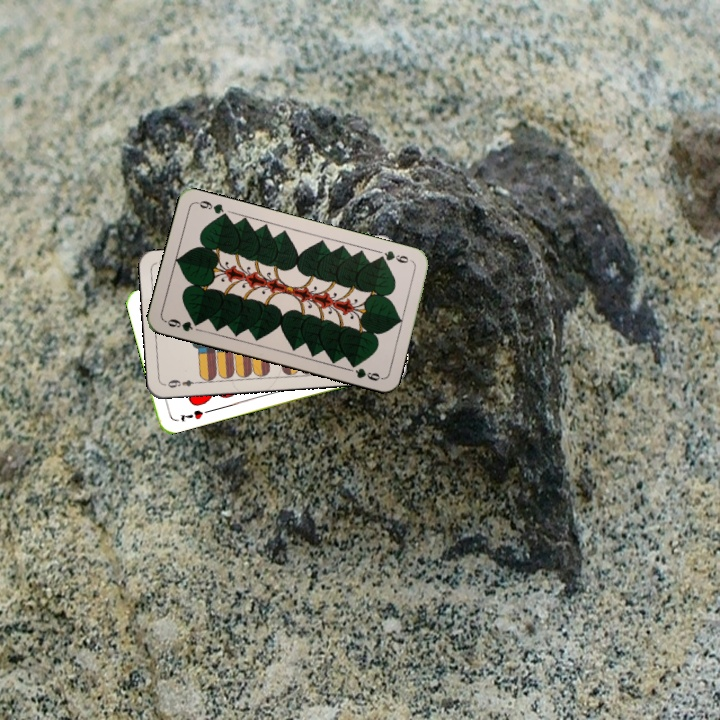E9: (162, 376, 202, 391)
G9: (373, 246, 415, 266), (161, 315, 203, 334)
H7: (176, 406, 206, 424)
